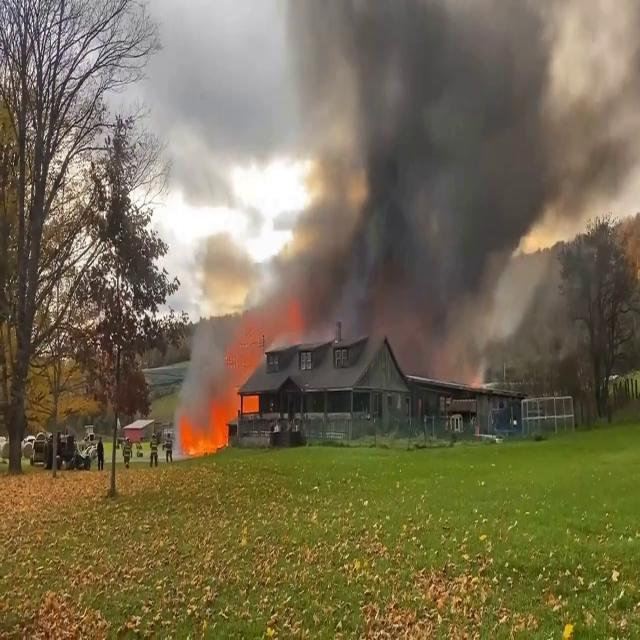Fire: (173, 396, 243, 462)
Smoke: (280, 1, 640, 345)
